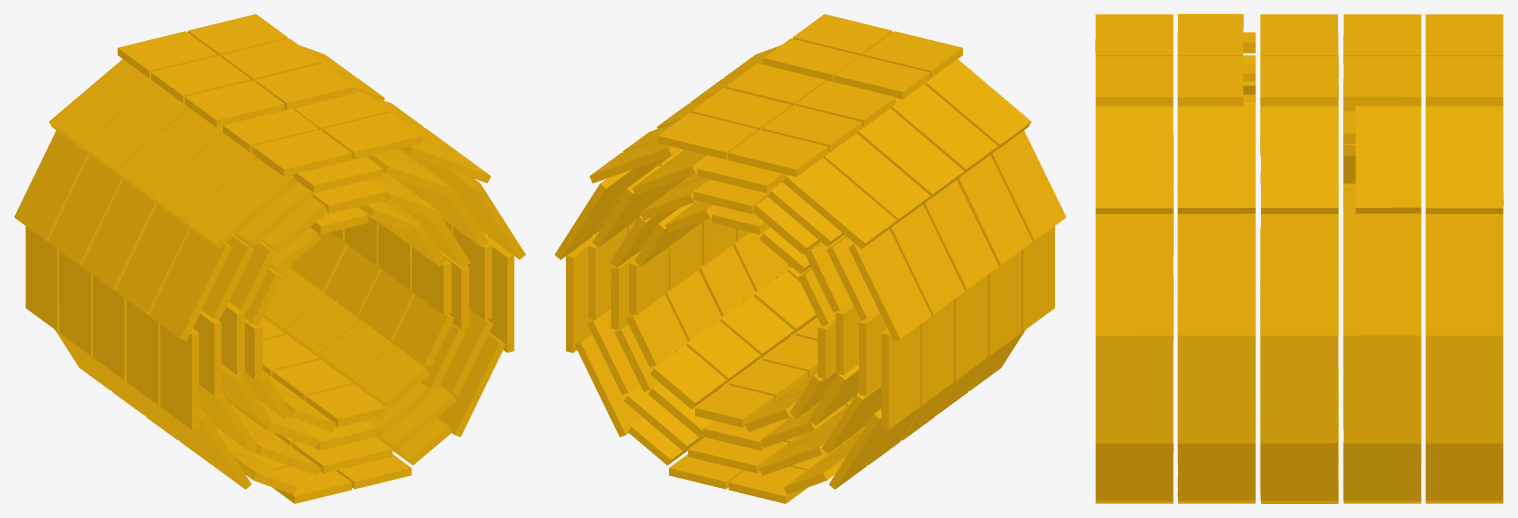
The model's file is DTs3D_V1.glb.
3 views of the same model, side by side, from view 1: azimuth 30°, elevation 25°; view 2: azimuth 150°, elevation 25°; view 3: azimuth 270°, elevation 25° (orthographic). The views are drawn at different scales.
Parts seen in each view (by area): view 1: DTs3D_V1; view 2: DTs3D_V1; view 3: DTs3D_V1.
Boxes of the visible parts, x1,y1,x2,y2 form: DTs3D_V1: (14,14,525,503); DTs3D_V1: (554,14,1066,503); DTs3D_V1: (1095,14,1503,503).
Size of the model in its own units: 15.81 by 14.74 by 13.19.
